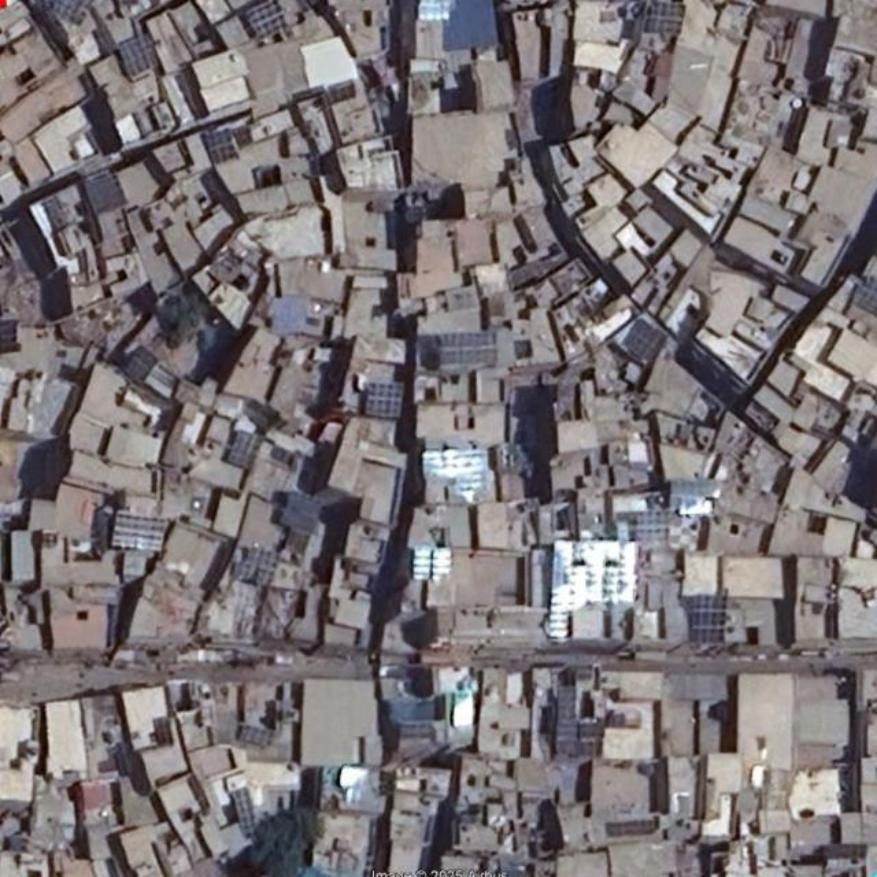Solarpanel: (556, 687, 611, 756), (113, 513, 169, 551), (440, 330, 497, 364), (623, 319, 667, 361), (689, 596, 729, 642), (117, 32, 158, 74), (245, 0, 289, 39), (83, 174, 125, 213), (643, 0, 687, 34), (233, 787, 256, 840), (229, 432, 261, 468), (368, 385, 403, 416), (206, 132, 238, 162), (855, 275, 876, 319), (608, 818, 657, 836)
